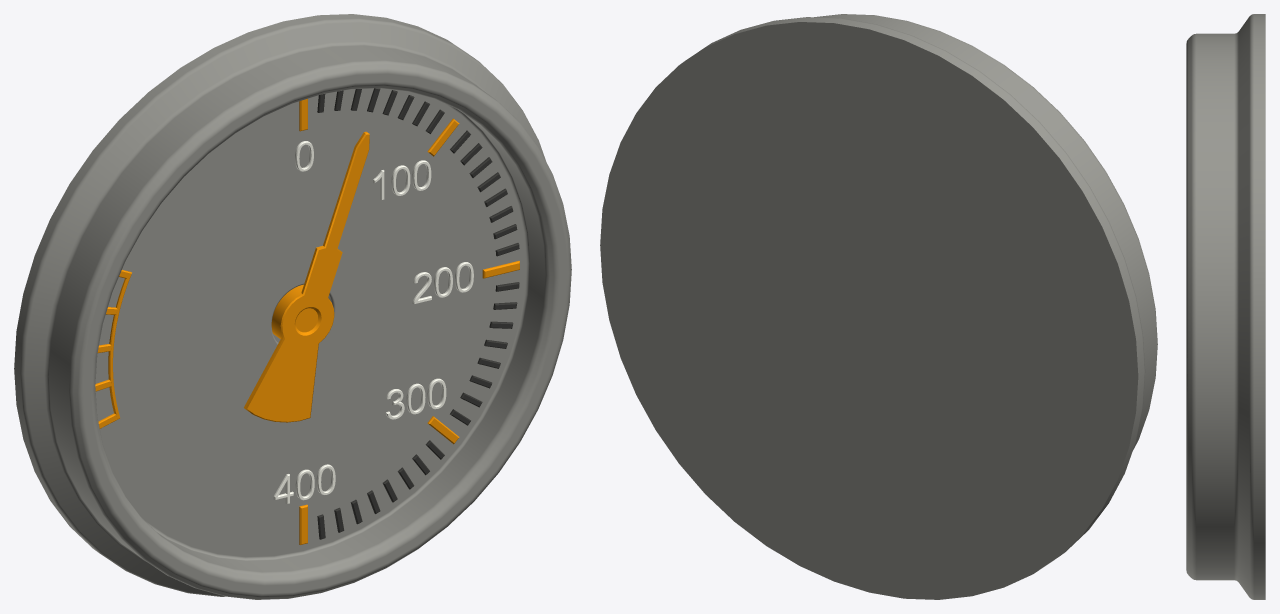
The model's file is Speedometer #10.fbx.
The picture shows the model from 3 angles, left to right: view 1: azimuth 30°, elevation 25°; view 2: azimuth 150°, elevation 25°; view 3: azimuth 270°, elevation 25°; orthographic projection. The views are drawn at different scales.
Parts seen in each view (by area): view 1: kitbash_14; view 2: kitbash_14; view 3: kitbash_14.
Boxes of the visible parts, box(x1,y1,x2,y2) form: kitbash_14: box(14, 14, 571, 599); kitbash_14: box(600, 14, 1157, 599); kitbash_14: box(1186, 14, 1265, 599).
Bounding box in the file's own units: 15.4 × 15.4 × 2.08.
